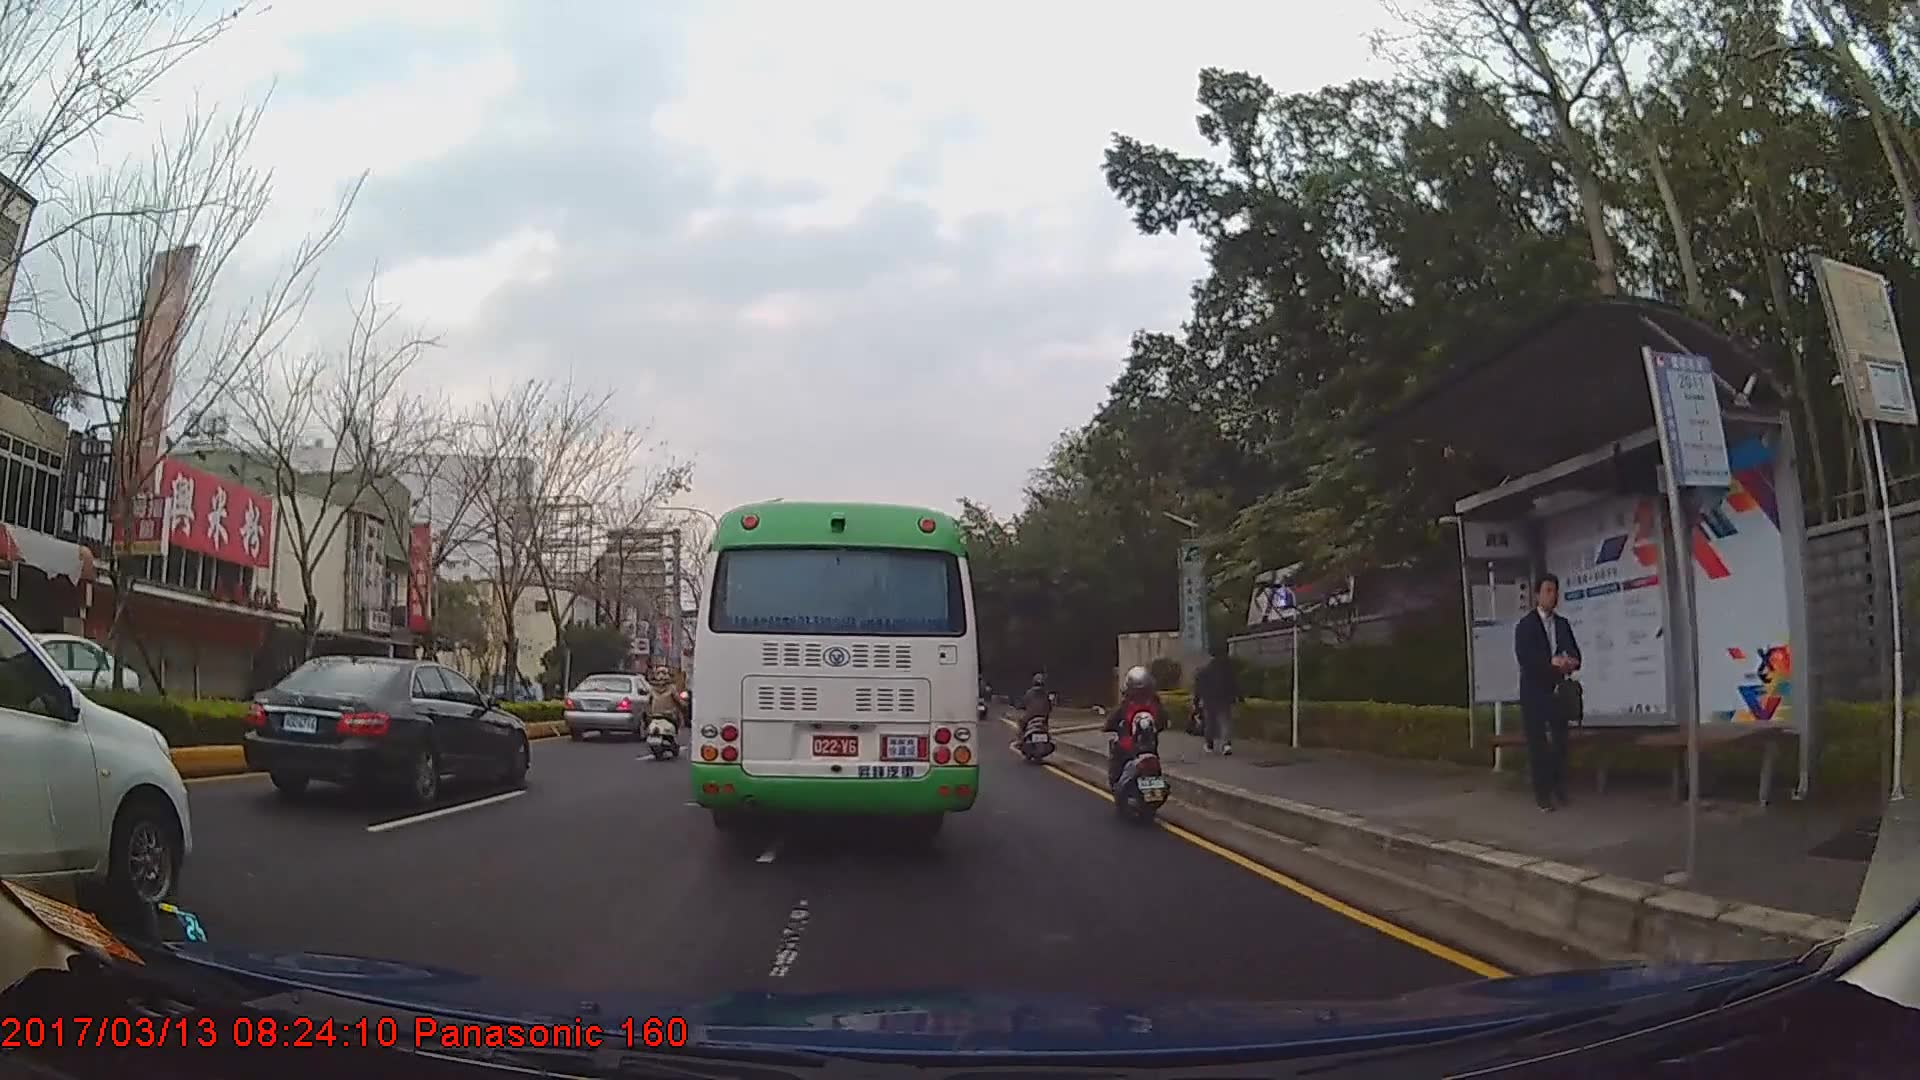pedestrian: (1514, 575, 1589, 814), (1189, 641, 1244, 760)
rider: (1102, 661, 1170, 824), (1016, 668, 1059, 766), (648, 667, 682, 760), (960, 672, 980, 713)
vehicle: (690, 503, 978, 847), (0, 582, 191, 907), (242, 652, 530, 805), (0, 624, 144, 745), (564, 670, 660, 742)
